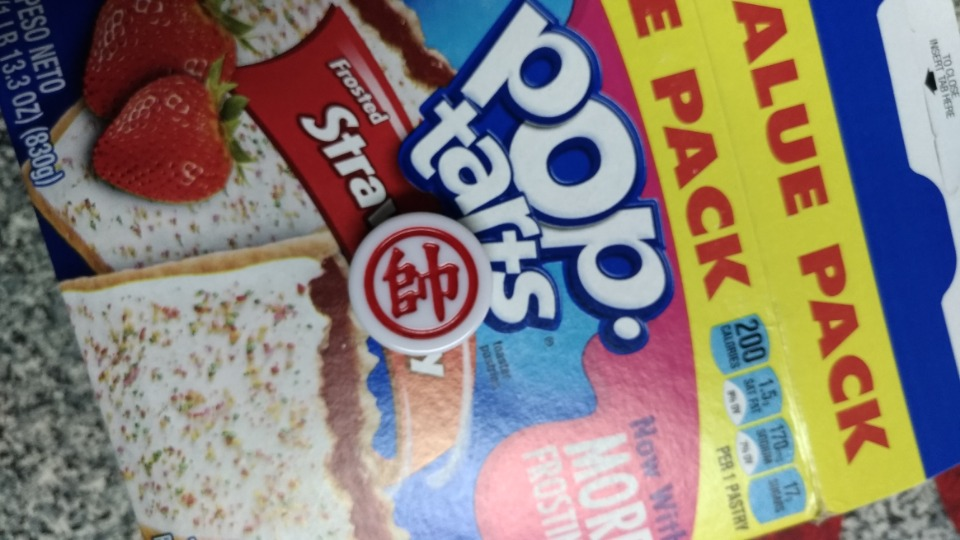r-king: (341, 211, 498, 360)
